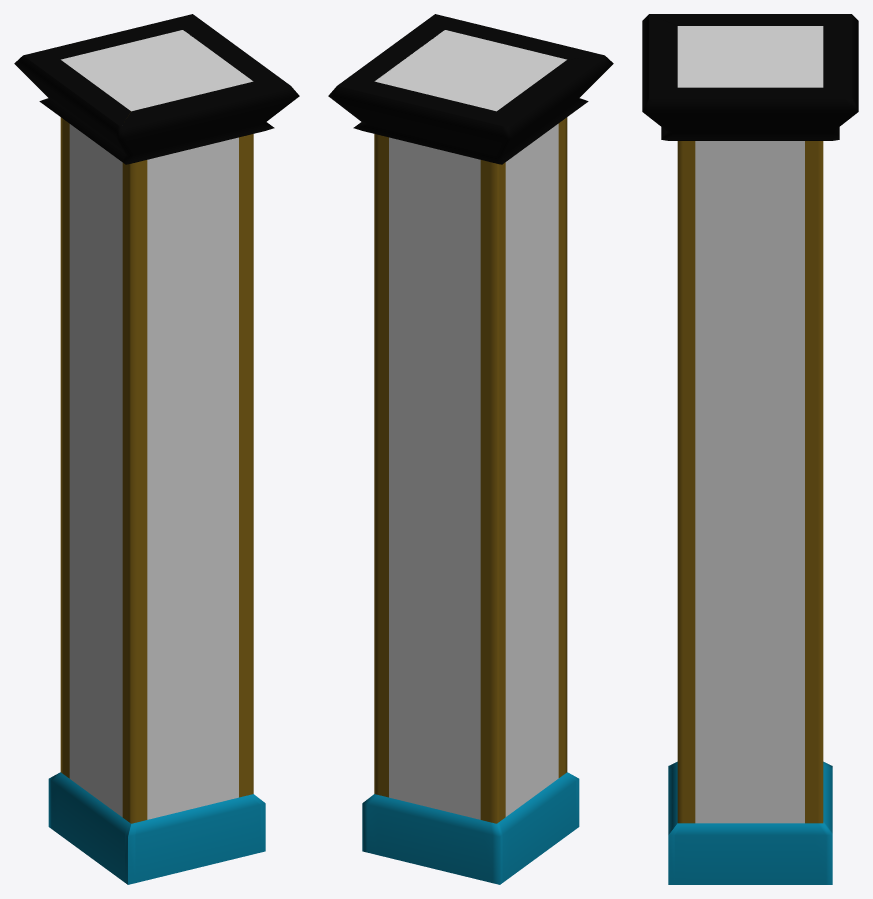
File: Neo_Pillar_01_S.fbx
The picture shows the model from 3 angles, left to right: view 1: azimuth 30°, elevation 25°; view 2: azimuth 150°, elevation 25°; view 3: azimuth 270°, elevation 25°; orthographic projection. The views are drawn at different scales.
Parts seen in each view (by area): view 1: Neo_Pillar_01_S_LOD00; view 2: Neo_Pillar_01_S_LOD00; view 3: Neo_Pillar_01_S_LOD00.
Boxes of the visible parts, x1,y1,x2,y2 form: Neo_Pillar_01_S_LOD00: (14,14,299,884); Neo_Pillar_01_S_LOD00: (328,14,613,884); Neo_Pillar_01_S_LOD00: (642,14,858,884).
Size of what is drawn, in the model's own units: 73.97 by 300 by 74.08.
